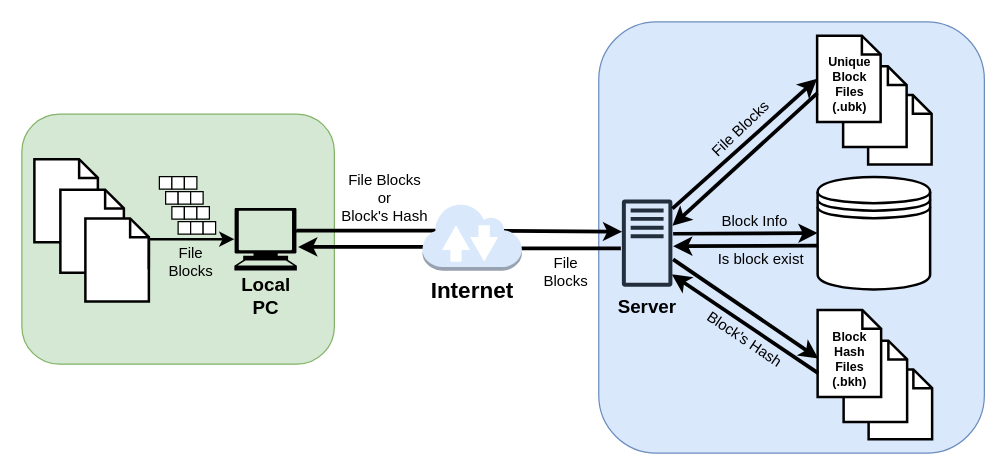
This 1006x475 diagram has some shape labels left out. The shapes that lost their labels are listed below. From the top down, each one's box as (x1, y1, x2, y2) in pixels, then its label:
(816, 175, 931, 290): Database
(84, 216, 150, 302): Source Files
